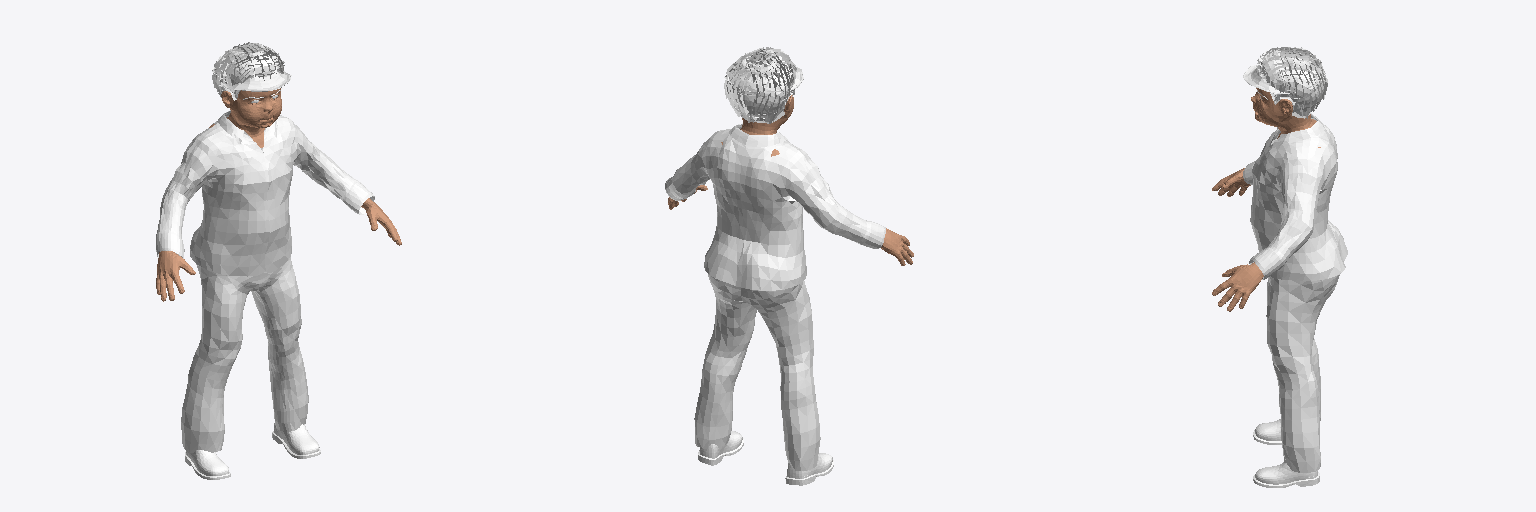
3 views of the same model, side by side, from view 1: azimuth 30°, elevation 25°; view 2: azimuth 150°, elevation 25°; view 3: azimuth 270°, elevation 25° (orthographic).
Visible parts, largest first — view 1: male_casualsuit03.obj, base.obj, afro01.obj, shoes01.obj, fedora.obj; view 2: male_casualsuit03.obj, afro01.obj, base.obj, shoes01.obj, fedora.obj; view 3: male_casualsuit03.obj, base.obj, afro01.obj, shoes01.obj, fedora.obj.
Part boxes in pixels (x1,y1,x2,y2): male_casualsuit03.obj: (156, 110, 374, 452); base.obj: (156, 88, 401, 301); afro01.obj: (211, 42, 284, 100); shoes01.obj: (185, 423, 320, 479); fedora.obj: (219, 43, 291, 91); male_casualsuit03.obj: (665, 123, 885, 470); afro01.obj: (724, 47, 796, 123); base.obj: (668, 95, 913, 265); shoes01.obj: (698, 431, 833, 485); fedora.obj: (732, 50, 803, 96); male_casualsuit03.obj: (1243, 113, 1347, 472); base.obj: (1212, 88, 1320, 311); afro01.obj: (1257, 47, 1327, 118); shoes01.obj: (1253, 419, 1319, 487); fedora.obj: (1243, 48, 1325, 94).
Size of the model in its own units: 6.16 by 10.14 by 3.05.